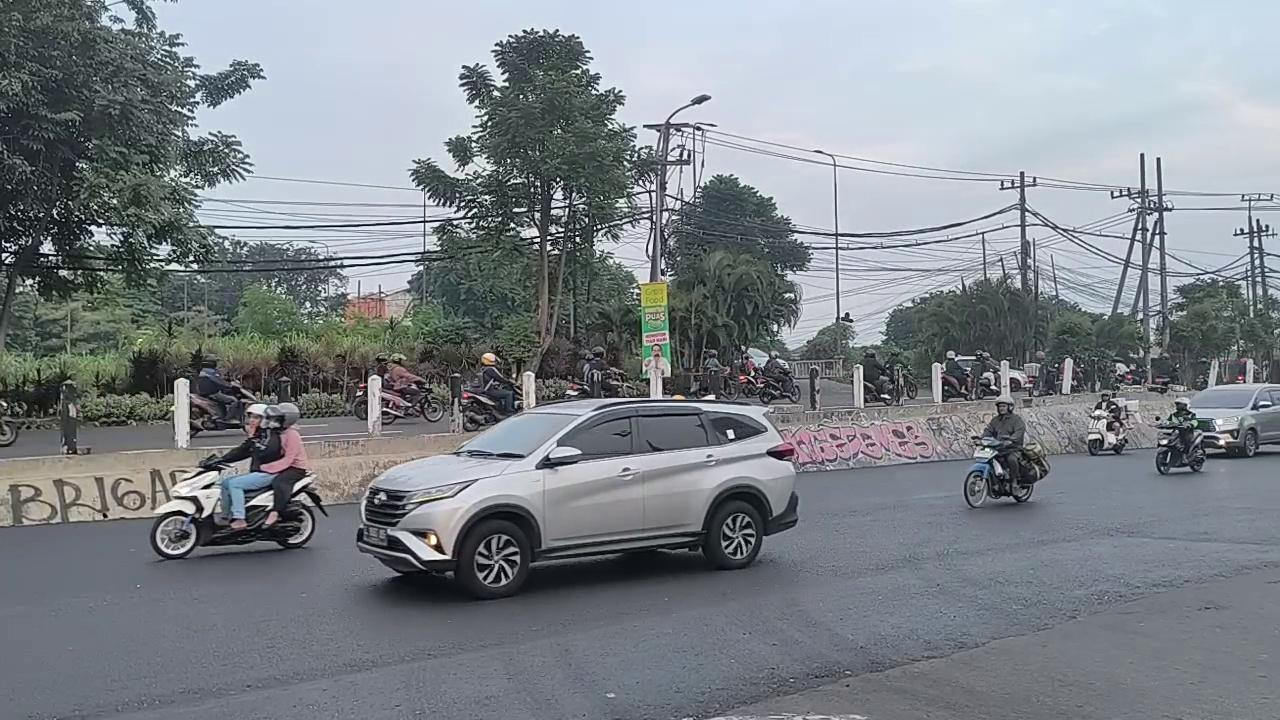Helmet: (217, 403, 306, 529), (982, 395, 1025, 486), (196, 355, 239, 420), (478, 352, 515, 415), (386, 353, 425, 402), (582, 346, 618, 396), (1168, 397, 1197, 452), (861, 349, 889, 396), (761, 351, 791, 393), (942, 350, 970, 393), (1094, 391, 1122, 431)
Motor: (150, 460, 327, 558), (964, 436, 1049, 507), (189, 384, 257, 436), (1155, 420, 1205, 474), (382, 385, 445, 424), (460, 388, 509, 431), (1087, 409, 1127, 455), (758, 369, 799, 404), (722, 372, 762, 399), (890, 363, 918, 401), (942, 370, 971, 401), (0, 400, 18, 447), (970, 371, 999, 399), (601, 369, 628, 398), (864, 380, 894, 405), (1147, 376, 1171, 393), (1192, 374, 1208, 390)
